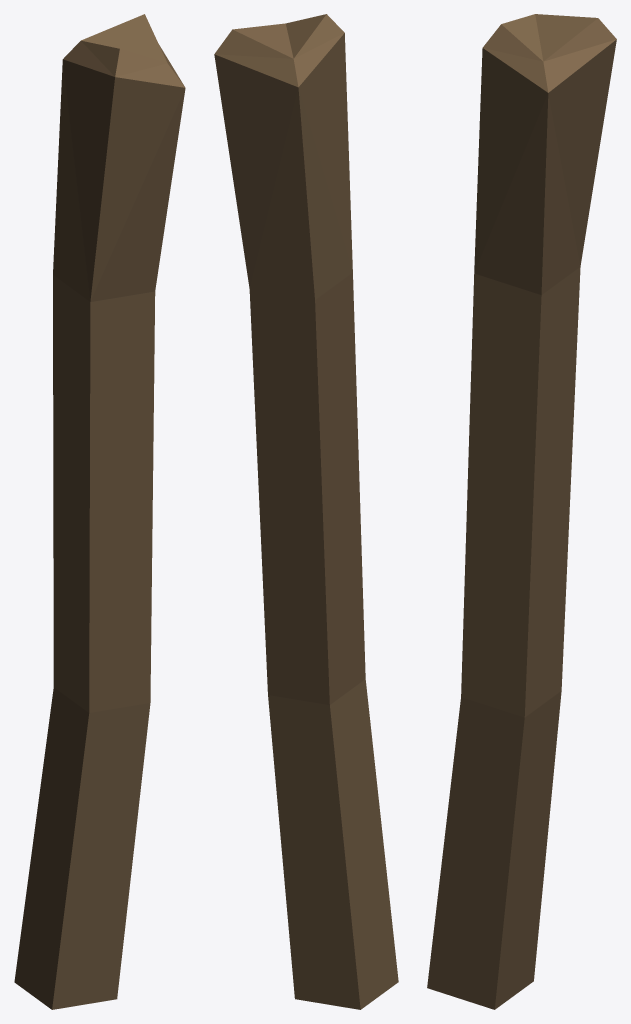
File: fence_post.glb
The picture shows the model from 3 angles, left to right: view 1: azimuth 30°, elevation 25°; view 2: azimuth 150°, elevation 25°; view 3: azimuth 330°, elevation 25°; orthographic projection. The views are drawn at different scales.
Visible parts, largest first — view 1: SM_Bld_FencePost_01; view 2: SM_Bld_FencePost_01; view 3: SM_Bld_FencePost_01.
Part boxes in pixels (x1,y1,x2,y2): SM_Bld_FencePost_01: (14,14,185,1009); SM_Bld_FencePost_01: (214,14,398,1009); SM_Bld_FencePost_01: (427,14,616,1009).
Size of the model in its own units: 18.93 by 122 by 12.34.
Materials: 1 (1 with a texture image).
